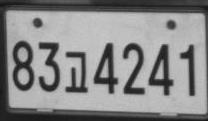1: (178, 43, 204, 97)
2: (122, 42, 145, 95)
3: (37, 40, 61, 93)
4: (147, 42, 174, 95), (93, 41, 119, 94)
8: (11, 38, 35, 92)
고: (64, 50, 88, 93)
